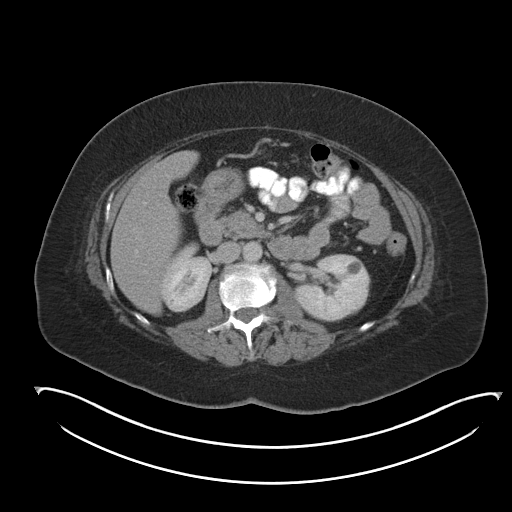Lesion: (344, 261, 364, 276)
